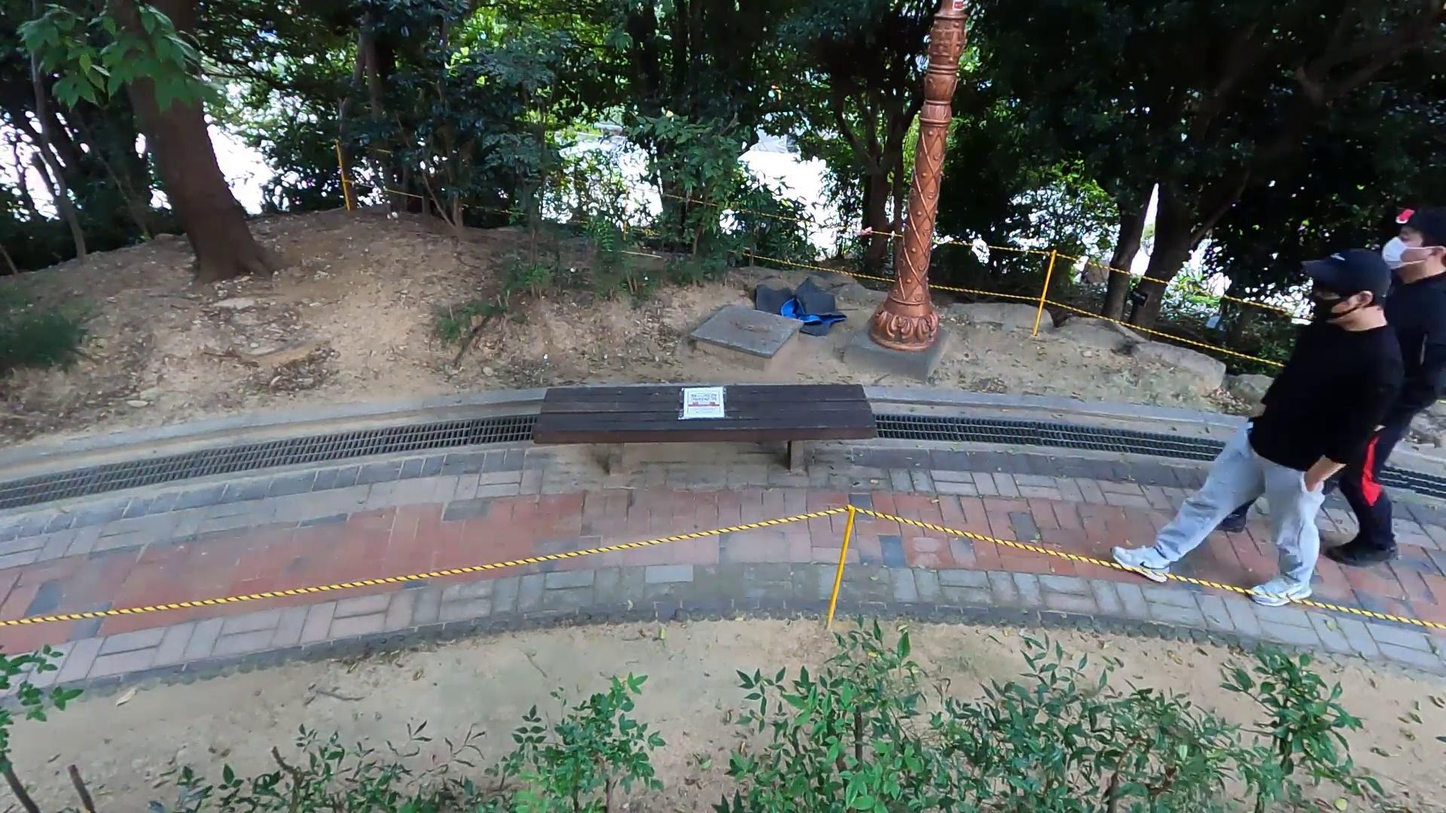person: (1109, 248, 1399, 610), (1194, 195, 1446, 568)
trash: (753, 277, 844, 343)
